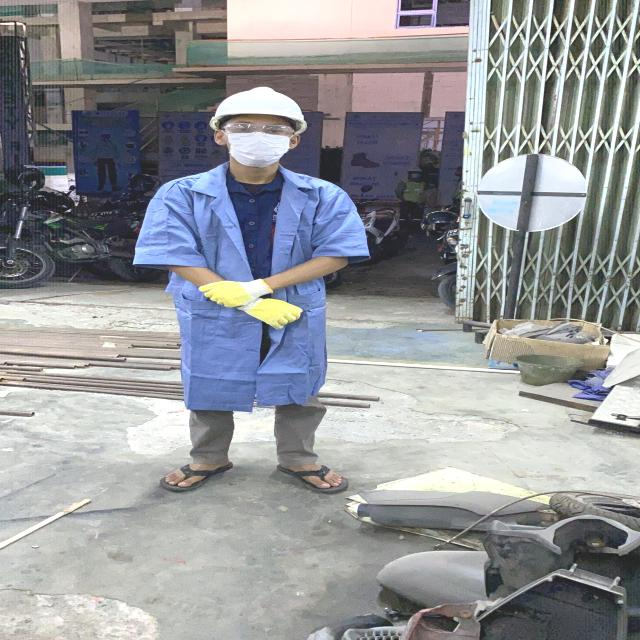face_mask: (220, 120, 295, 165)
glasses: (217, 120, 301, 137)
hand_glove: (194, 278, 268, 310), (255, 297, 311, 328)
head_helmet: (205, 84, 311, 127)
person: (129, 80, 369, 508)
